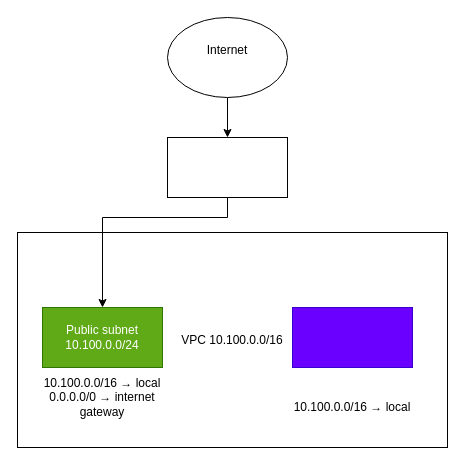
This 465x465 diagram has some shape labels left out. Here are the shapes that lost their labels. From the top down, the box of each, then its label:
(166, 136, 288, 198): Internet Gateway
(292, 306, 412, 368): Private subnet 10.100.1.0/24
